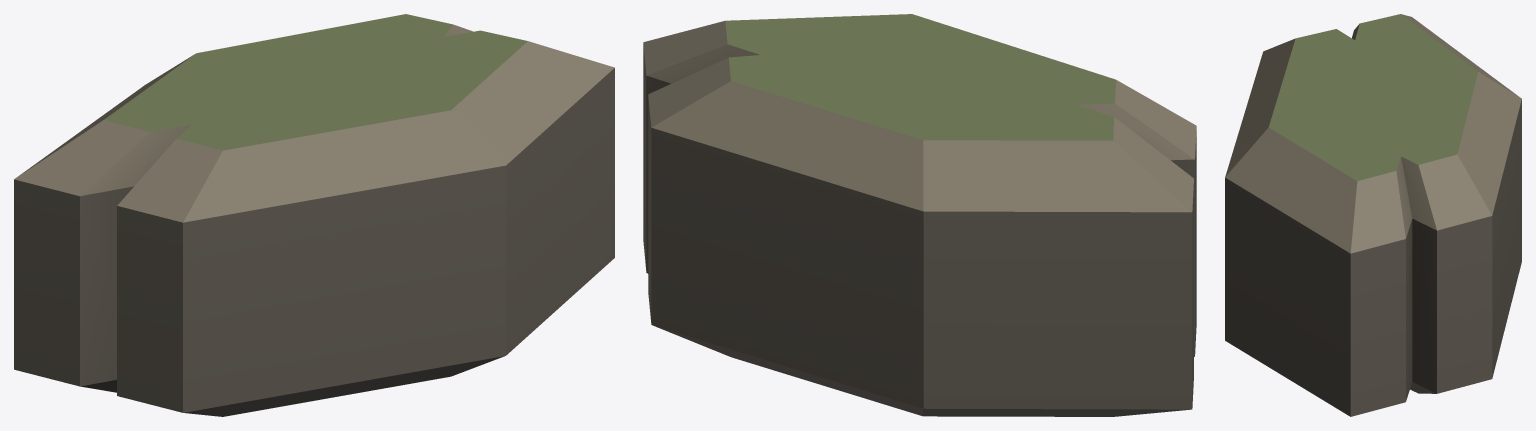
Rendered from rock-large-2.glb.
The picture shows the model from 3 angles, left to right: view 1: azimuth 30°, elevation 25°; view 2: azimuth 150°, elevation 25°; view 3: azimuth 270°, elevation 25°; orthographic projection. The views are drawn at different scales.
Parts seen in each view (by area): view 1: rock-large-2; view 2: rock-large-2; view 3: rock-large-2.
Boxes of the visible parts, left/top/right/bottom form: rock-large-2: left=14, top=14, right=614, bottom=416; rock-large-2: left=643, top=14, right=1196, bottom=416; rock-large-2: left=1225, top=14, right=1521, bottom=416.
Size of the model in its own units: 2.83 by 1.28 by 1.5.
